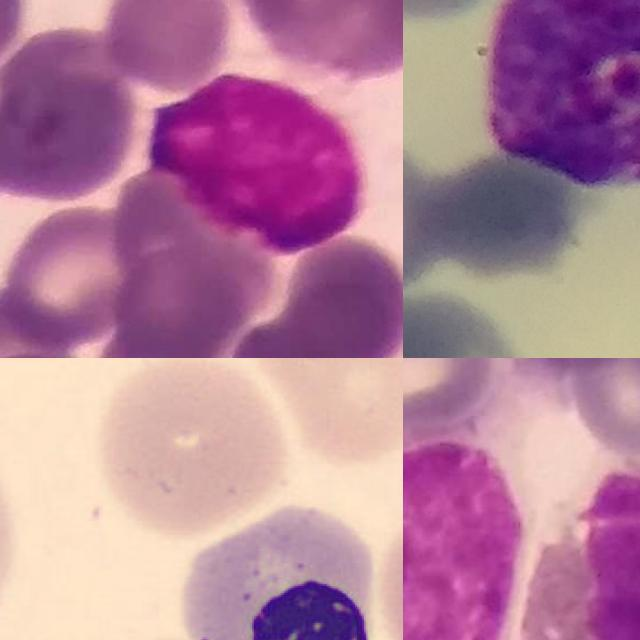Basophil: (485, 0, 640, 189)
Lymphocyte: (144, 72, 370, 260), (168, 496, 387, 640)
Neutrophil: (507, 454, 640, 640)
RBC: (90, 358, 296, 535), (403, 440, 532, 640), (255, 358, 403, 467), (0, 416, 28, 640)
